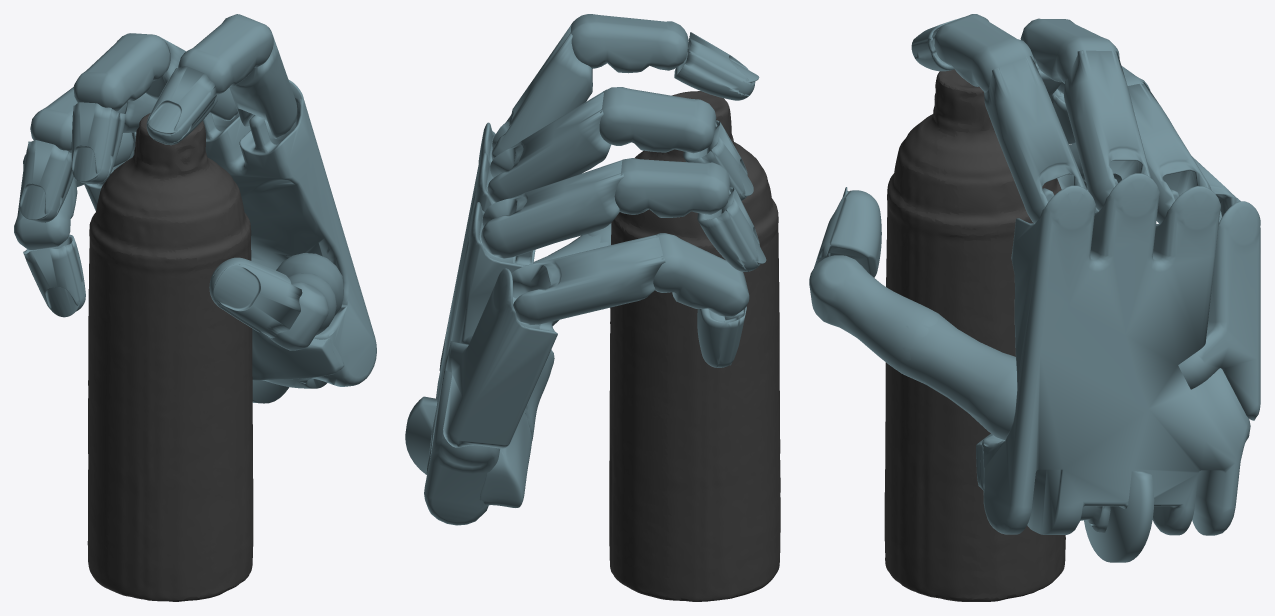
3 renders of one model, left to right at view 1: azimuth 30°, elevation 25°; view 2: azimuth 150°, elevation 25°; view 3: azimuth 270°, elevation 25°, orthographic. The views are drawn at different scales.
Visible parts, largest first — view 1: world; view 2: world; view 3: world.
Part boxes in pixels (x1,y1,x2,y2): world: (14, 14, 376, 601); world: (405, 14, 780, 601); world: (809, 14, 1260, 601).
Size of the model in its own units: 0.1307 by 0.1968 by 0.1402.
1 material, 1 textured.
